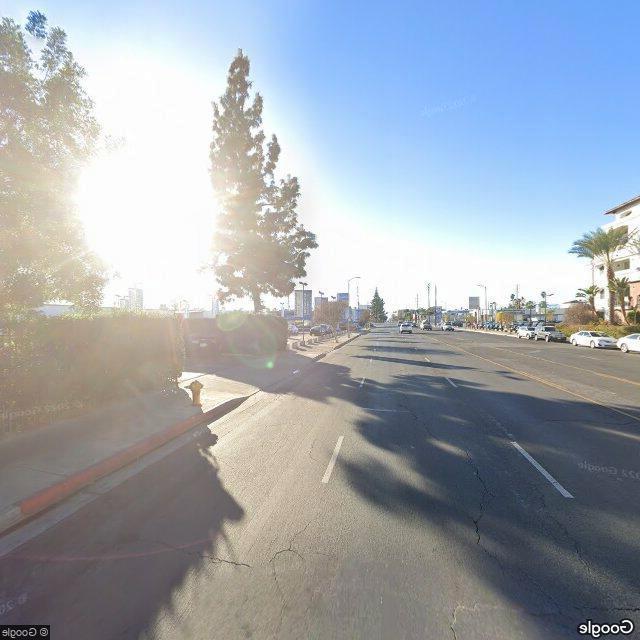crack: (400, 391, 546, 599), (122, 527, 329, 584), (450, 595, 640, 625)
